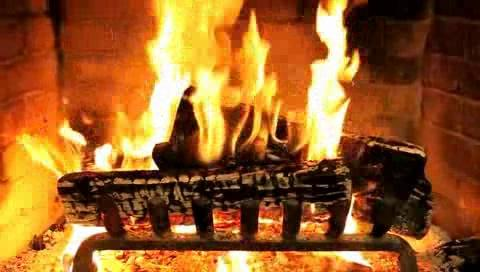fire: (24, 0, 480, 258)
